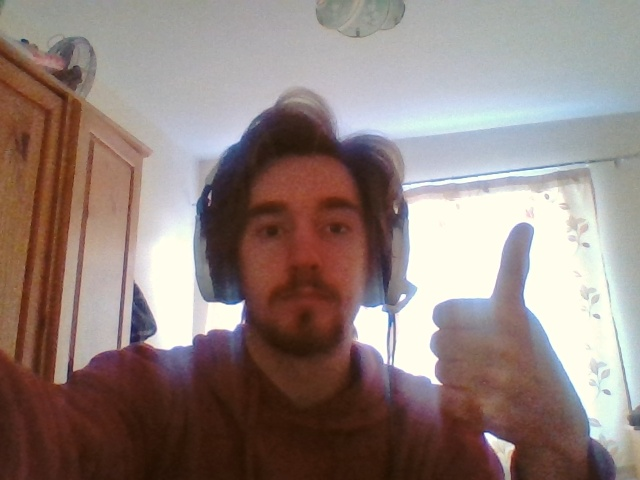good: (430, 222, 590, 444)
